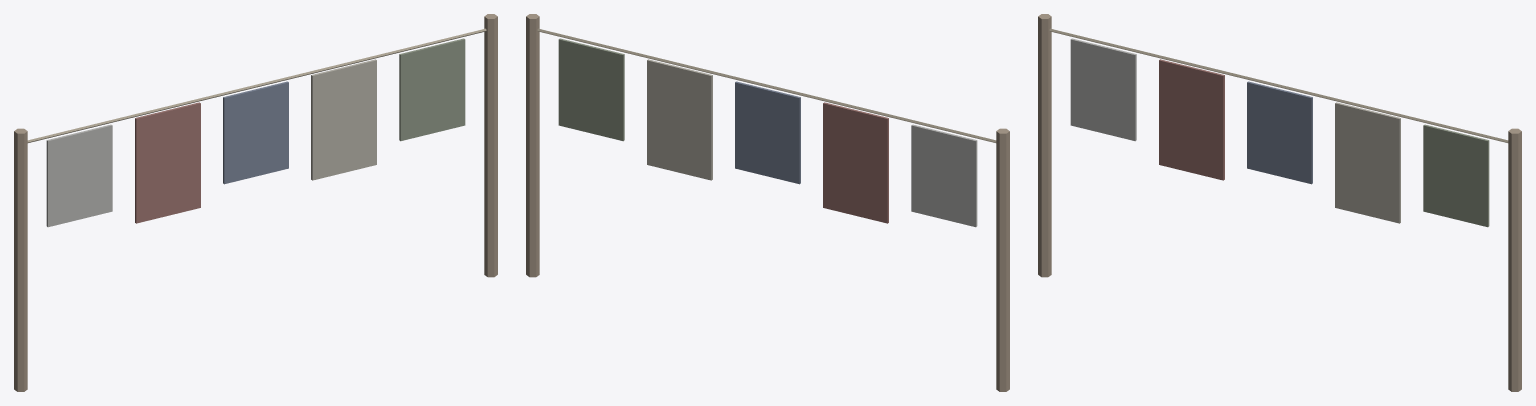
Rendered from laundry.gltf.
3 views of the same model, side by side, from view 1: azimuth 30°, elevation 25°; view 2: azimuth 150°, elevation 25°; view 3: azimuth 330°, elevation 25° (orthographic).
Parts seen in each view (by area): view 1: Body; view 2: Body; view 3: Body.
Boxes of the visible parts, <box> form: Body: <box>14,14,497,391</box>; Body: <box>526,14,1009,391</box>; Body: <box>1038,14,1521,391</box>.
Bounding box in the file's own units: 4.09 × 2.1 × 0.1.
